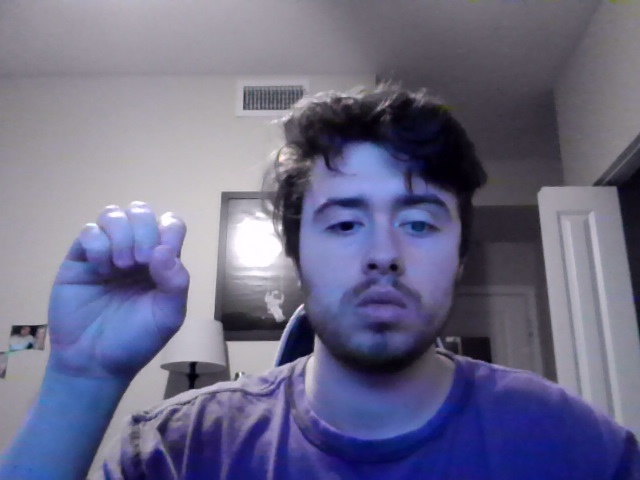o: (48, 199, 190, 394)
